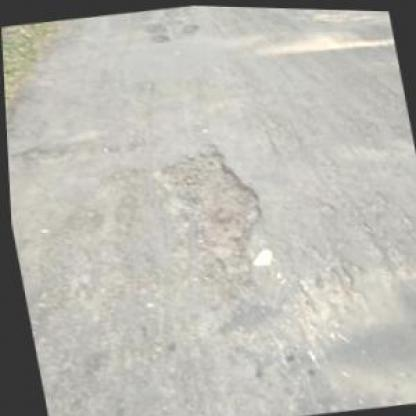pothole: (148, 137, 272, 276), (179, 18, 201, 39), (144, 19, 168, 35), (148, 32, 172, 43)
